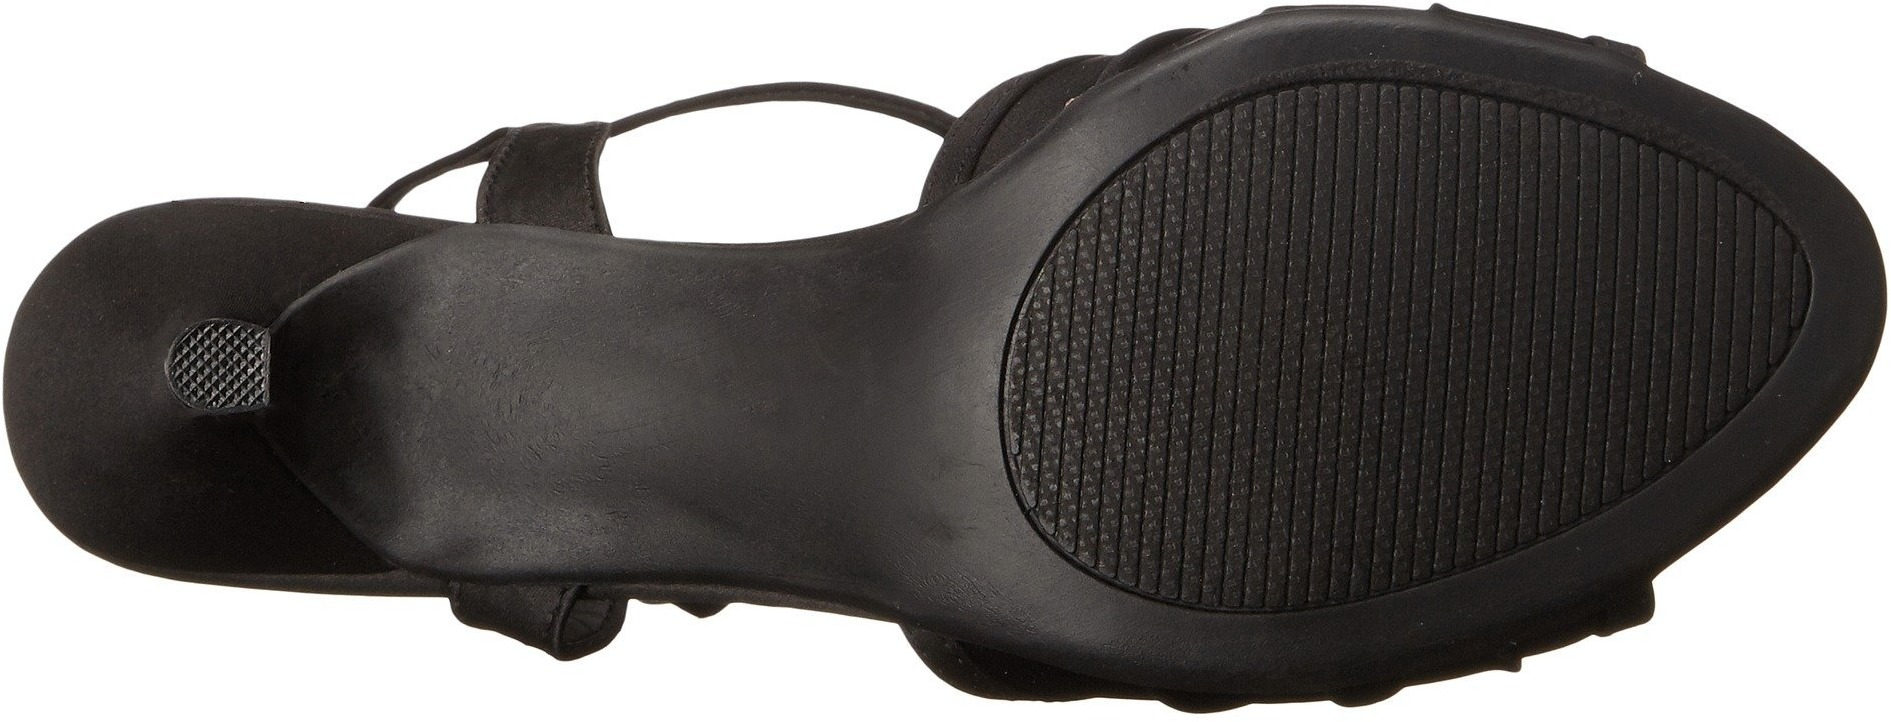other: (1237, 125, 1618, 491), (1056, 250, 1365, 547), (1524, 187, 1754, 406), (191, 334, 257, 399)
